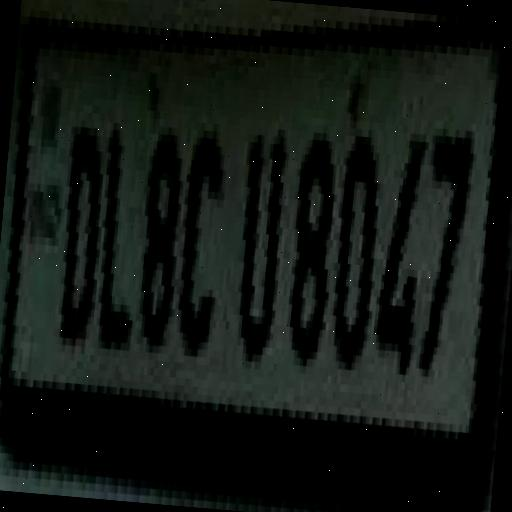number plate: (0, 24, 500, 471)
